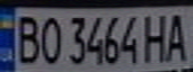3: (63, 12, 87, 65)
4: (118, 11, 145, 65), (84, 12, 106, 65)
6: (103, 12, 124, 65)
A: (163, 9, 193, 62)
B: (9, 11, 42, 66)
H: (139, 10, 172, 63)
O: (36, 12, 63, 65)
